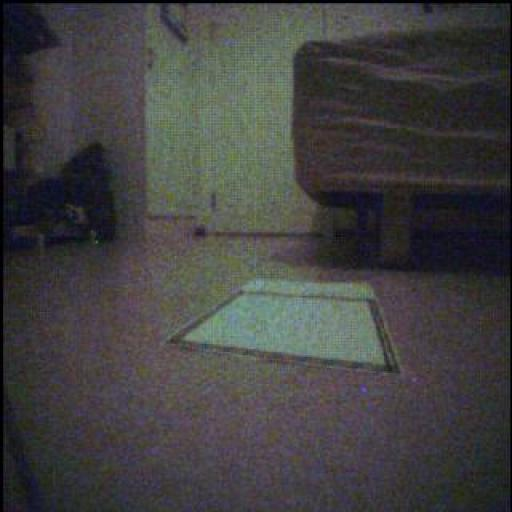pad: (173, 281, 400, 374)
